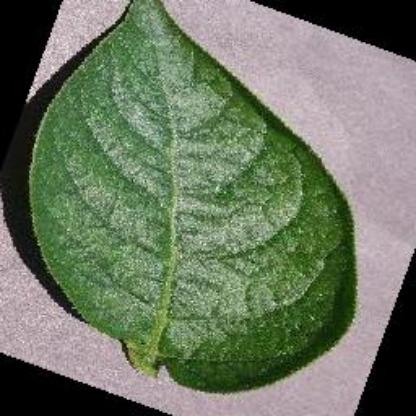Healthy-plant: (18, 0, 370, 396)
